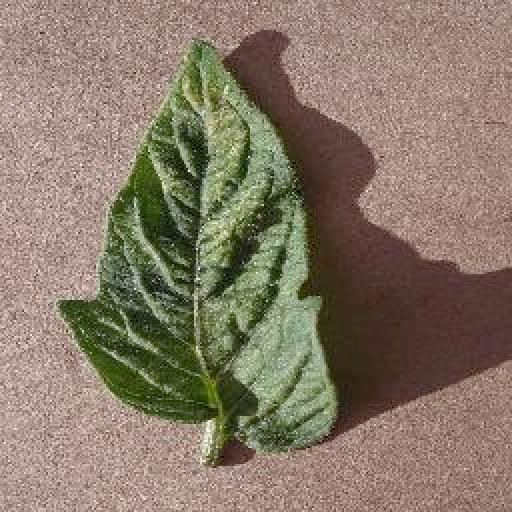disease_tomato: (54, 36, 340, 456)
